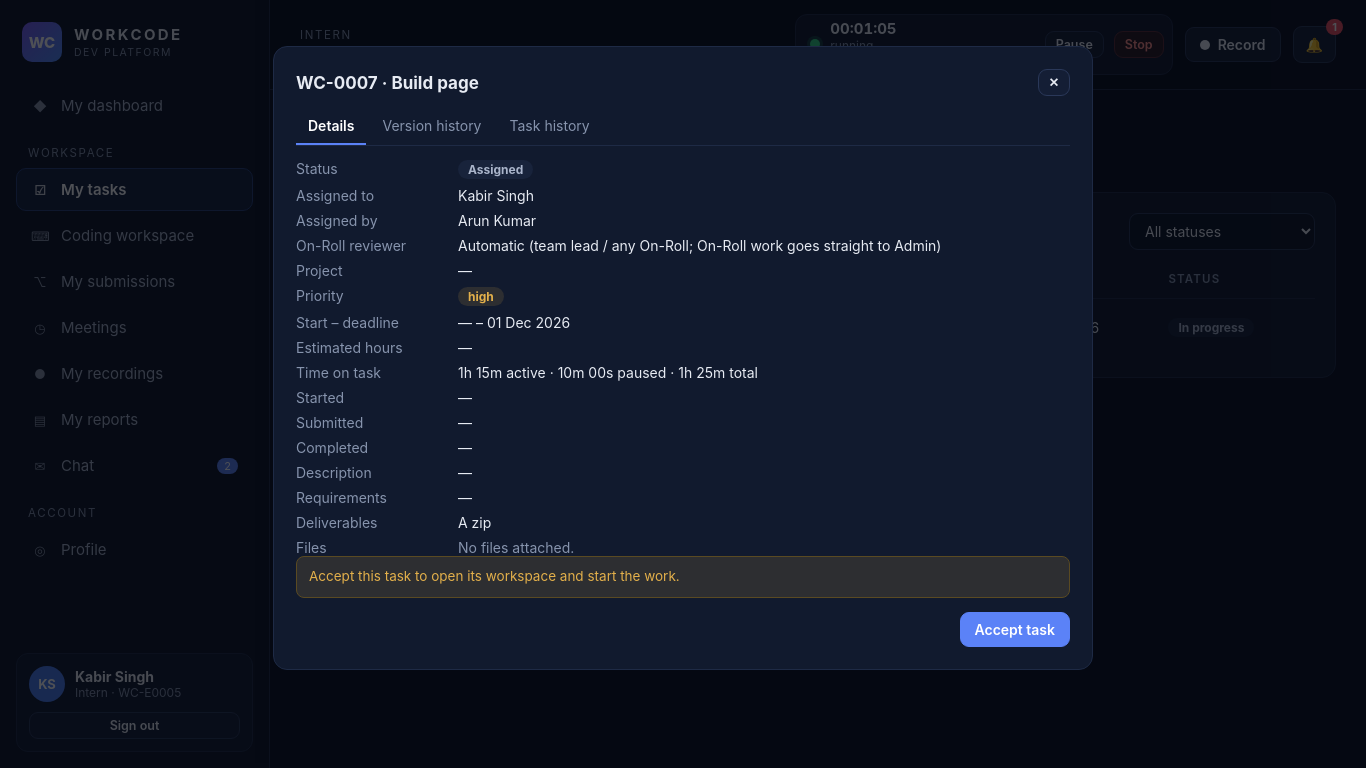
Test: tasks › the assignee accepts a task; history and versions with a real diff are shown
The width and height of the screenshot is (1366, 768).
Later steps or results of the test are not shown.
Expected: the text "1h 15m active · 10m 00s paused · 1h 25m total" is shown, [458,364,758,381]
Click the button "Accept task".
click(1015, 629)  # box [960,612,1070,647]
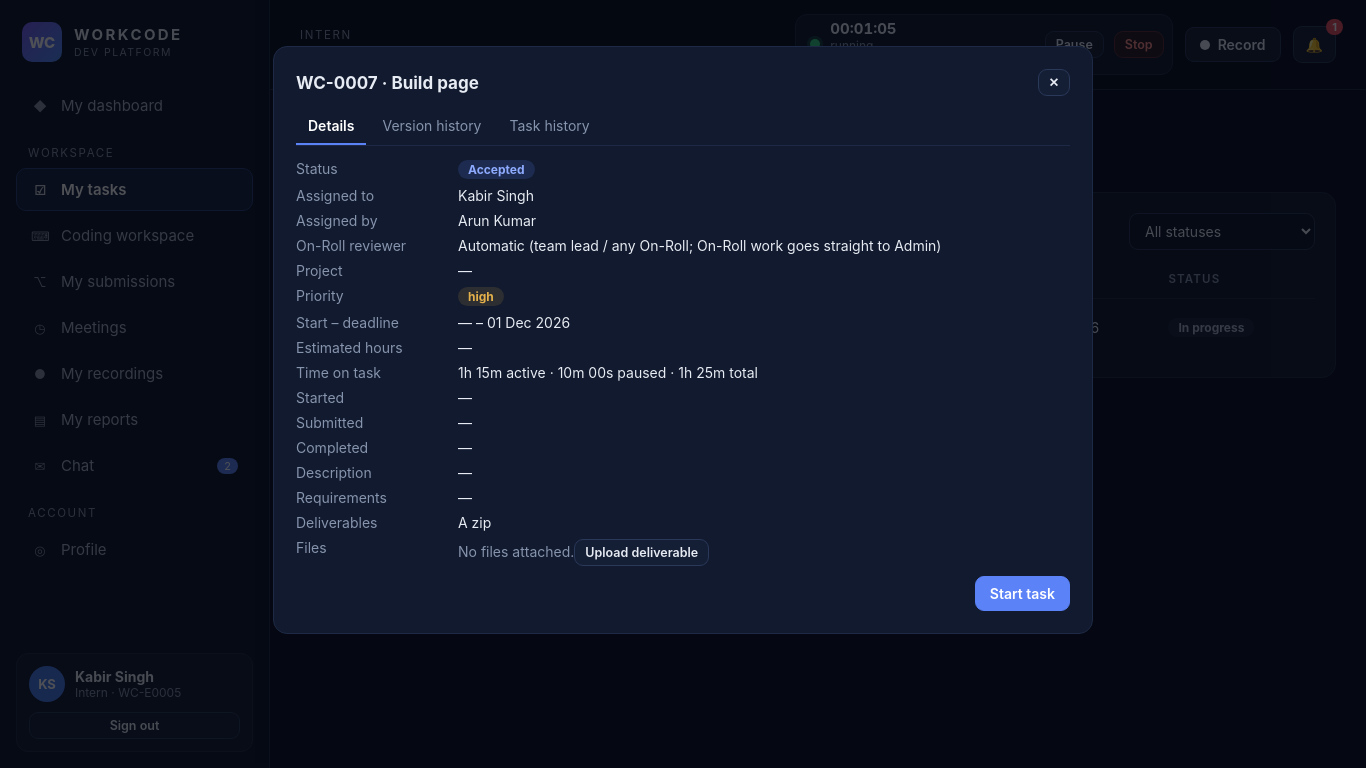
Expected: the button "Start task" is shown, [975,576,1070,611]
Click the button "Task history".
click(550, 127)  # box [498,108,602,145]
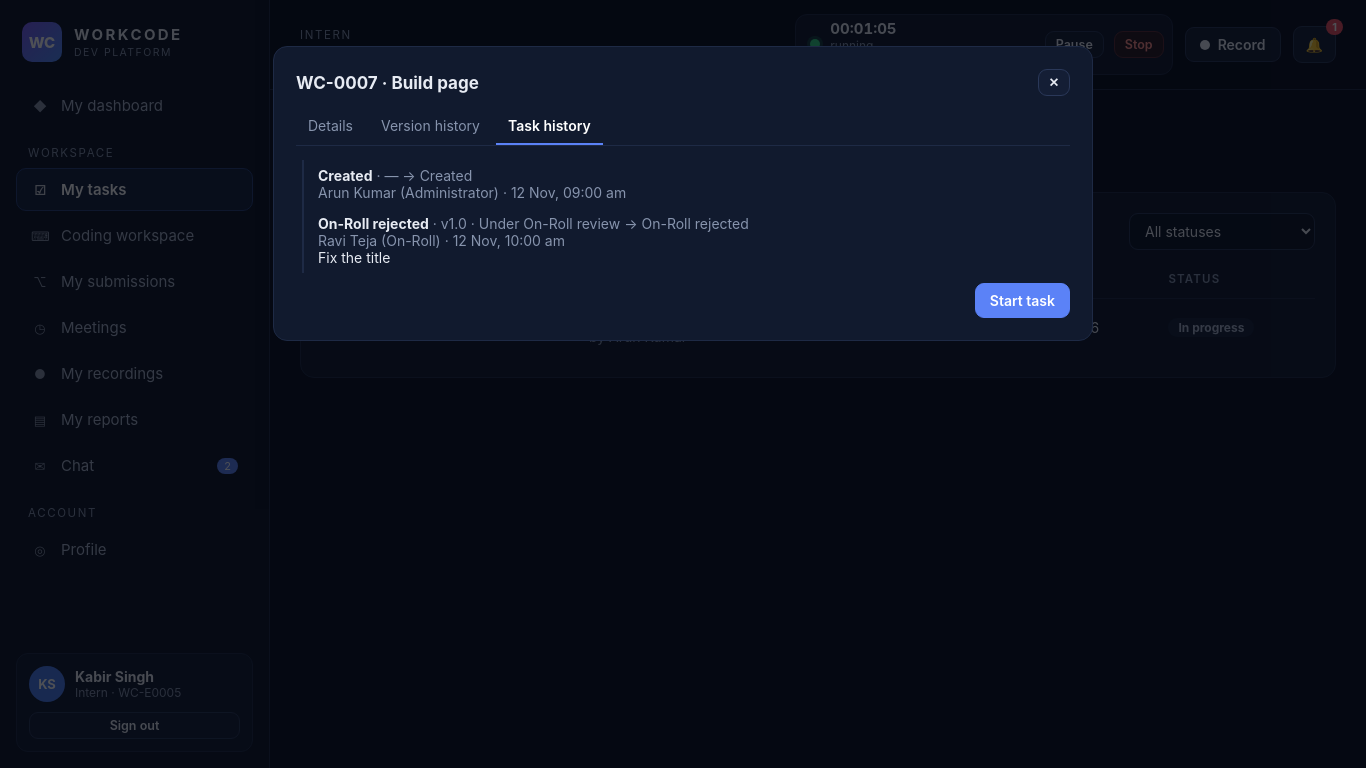
Expected: the text "Fix the title" is shown, [318,249,390,266]
Expected: the text "· Under On-Roll review → On-Roll rejected" is shown, [467,215,749,232]
